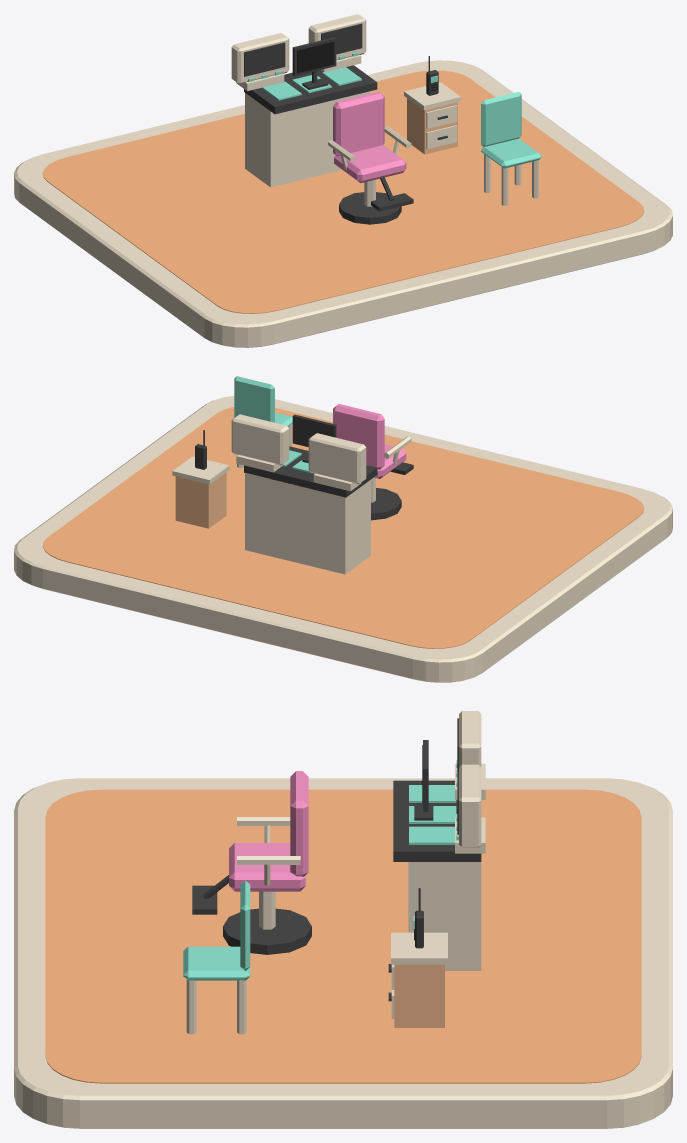
3 views of the same model, one above another, from view 1: azimuth 30°, elevation 25°; view 2: azimuth 150°, elevation 25°; view 3: azimuth 270°, elevation 25° (orthographic). The views are drawn at different scales.
Visible parts, largest first — view 1: COM-02 Floor Surface, COM-01 Rounded Base Direct, Console, Back, Panel, Backrest, Seat, Frame, Housing, Body, Base, Seat.001 (+6 smaller); view 2: COM-02 Floor Surface, COM-01 Rounded Base Direct, Console, Housing, Housing.001, Body, Back, Backrest, Panel, Frame, Top, Base; view 3: COM-02 Floor Surface, COM-01 Rounded Base Direct, Console, Body, Panel, Base, Seat, Seat.001, Housing.001, Back, Top, Housing (+6 smaller).
Part boxes in pixels (box(x1,y1,x2,y2)): COM-02 Floor Surface: box(42, 70, 644, 313); COM-01 Rounded Base Direct: box(14, 60, 672, 347); Console: box(245, 91, 370, 187); Back: box(333, 91, 384, 156); Panel: box(244, 65, 377, 114); Backrest: box(481, 91, 521, 146); Seat: box(334, 145, 406, 183); Frame: box(292, 37, 336, 89); Housing: box(231, 33, 289, 84); Body: box(407, 98, 457, 154); Base: box(339, 192, 401, 224); Seat.001: box(481, 138, 541, 168); COM-02 Floor Surface: box(42, 407, 644, 648); COM-01 Rounded Base Direct: box(14, 396, 672, 682); Console: box(245, 472, 370, 574); Housing: box(308, 433, 366, 484); Housing.001: box(231, 414, 289, 465); Body: box(175, 472, 226, 528); Back: box(333, 404, 384, 469); Backrest: box(234, 376, 274, 422); Panel: box(244, 446, 377, 497); Frame: box(292, 414, 336, 462); Top: box(172, 456, 229, 484); Base: box(371, 488, 401, 520); COM-02 Floor Surface: box(45, 789, 641, 1083); COM-01 Rounded Base Direct: box(14, 778, 672, 1128); Console: box(408, 862, 481, 970); Body: box(394, 964, 444, 1027); Panel: box(393, 780, 481, 861); Base: box(223, 908, 311, 954); Seat: box(229, 843, 305, 891); Seat.001: box(183, 946, 250, 980); Housing.001: box(459, 764, 481, 847); Back: box(290, 771, 308, 876); Top: box(391, 932, 447, 964); Housing: box(459, 711, 481, 767).
Size of the model in its own units: 6 by 1.88 by 5.2.
Materials: 1 (1 with a texture image).
